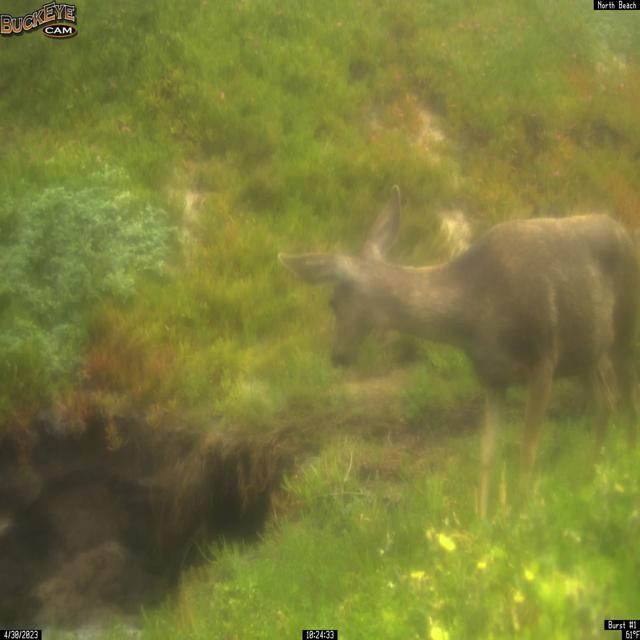deer: (277, 183, 640, 527)
